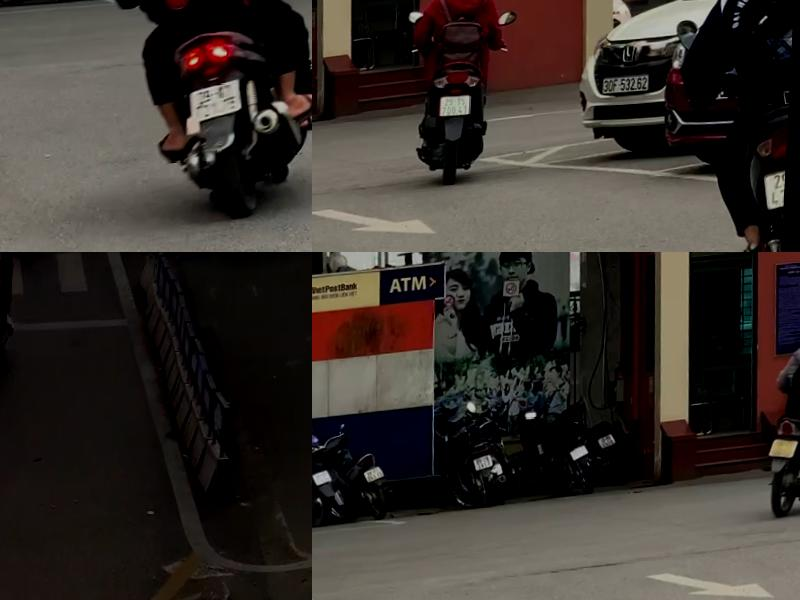license_plate: (190, 85, 248, 130), (764, 179, 791, 225), (769, 445, 800, 468), (444, 102, 475, 124), (365, 469, 388, 487), (314, 471, 336, 488), (476, 459, 497, 476), (572, 450, 593, 467), (600, 439, 619, 456)
motorcyclist: (94, 0, 312, 233), (672, 0, 800, 252), (401, 0, 517, 196), (768, 320, 800, 527), (0, 252, 25, 386)
